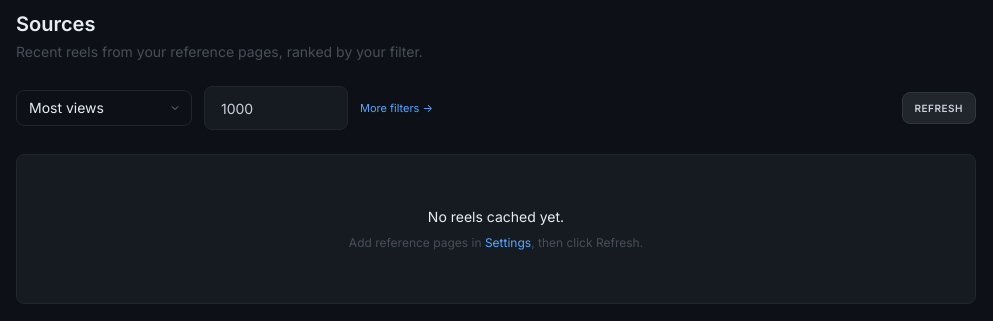
Test: /sources page › refresh with no reference pages shows the explainer note
Expected: the element with test id "sources-empty-no-cache" is shown, [349,208,643,250]
Click the button with test id "sources-refresh". click: (939, 108)
box: [902,92,976,124]
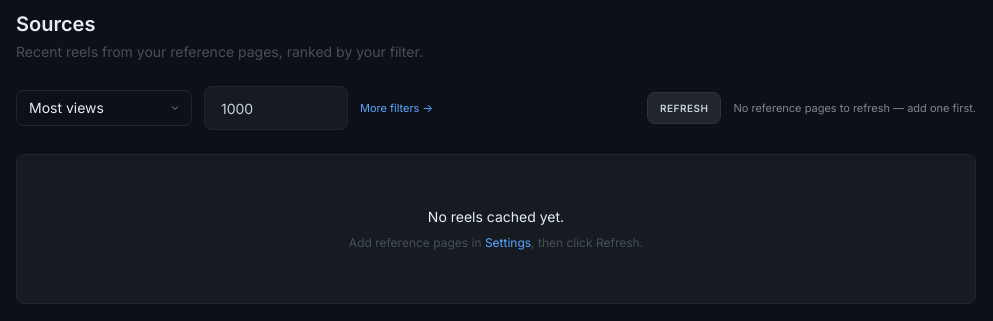
Expected: the message with test id "sources-refresh-note" shows "add one first", [734,101,976,115]
